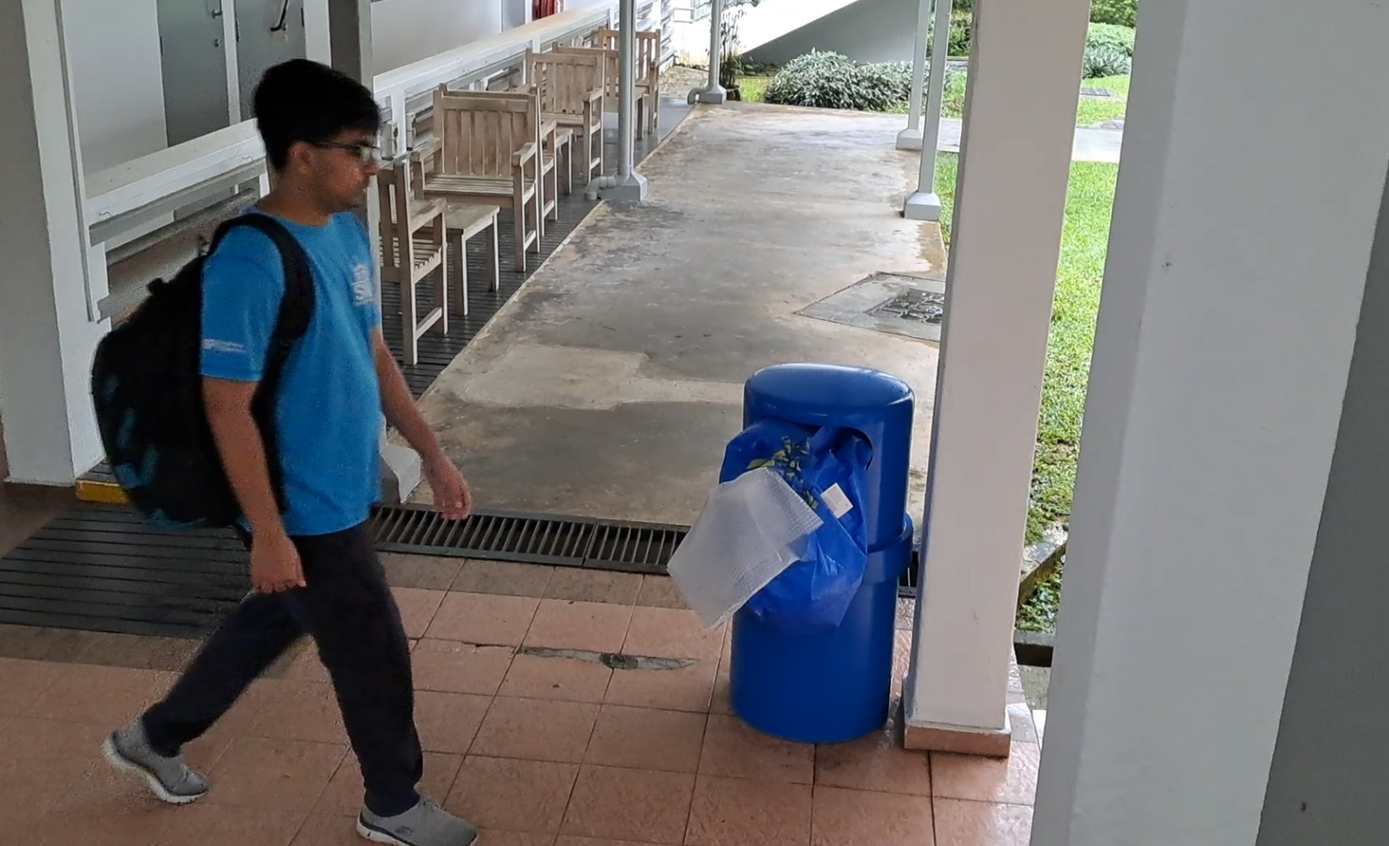bin_full: (668, 364, 914, 744)
